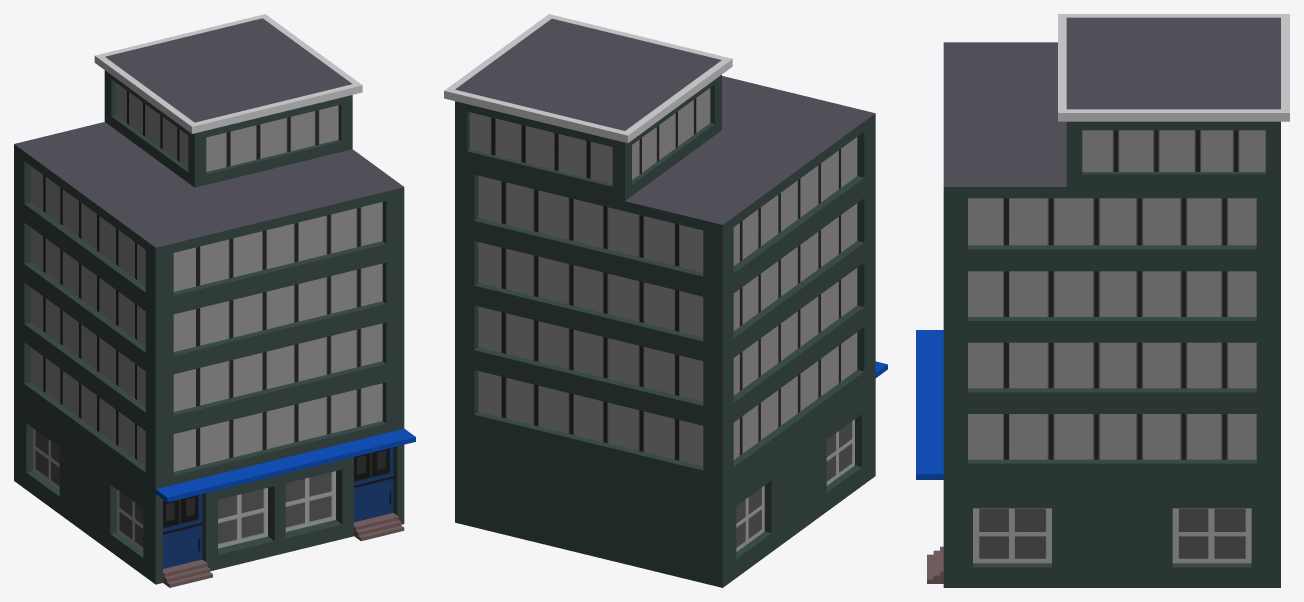
File: building18a.FBX
The picture shows the model from 3 angles, left to right: view 1: azimuth 30°, elevation 25°; view 2: azimuth 150°, elevation 25°; view 3: azimuth 270°, elevation 25°; orthographic projection. The views are drawn at different scales.
Parts seen in each view (by area): view 1: building18a; view 2: building18a; view 3: building18a.
Part boxes in pixels (x1,y1,x2,y2): building18a: (14, 14, 415, 587); building18a: (444, 14, 887, 587); building18a: (916, 14, 1289, 587).
Bounding box in the file's own units: 20.5 × 30.88 × 21.86.
